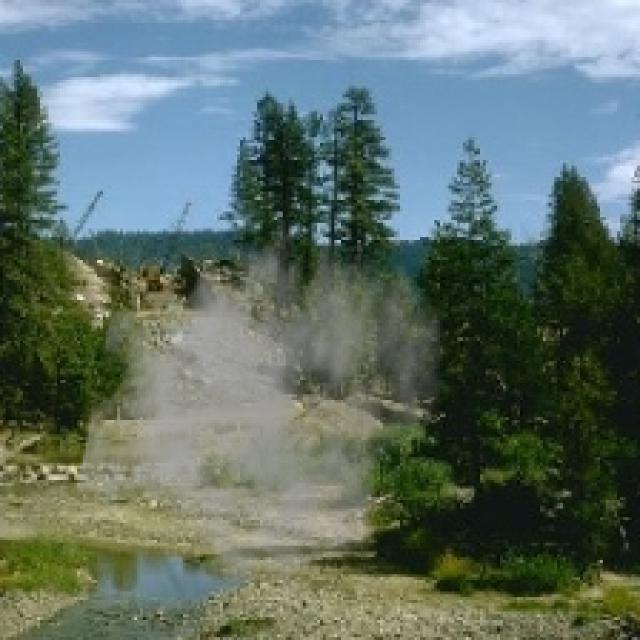smoke: (74, 200, 449, 606)
